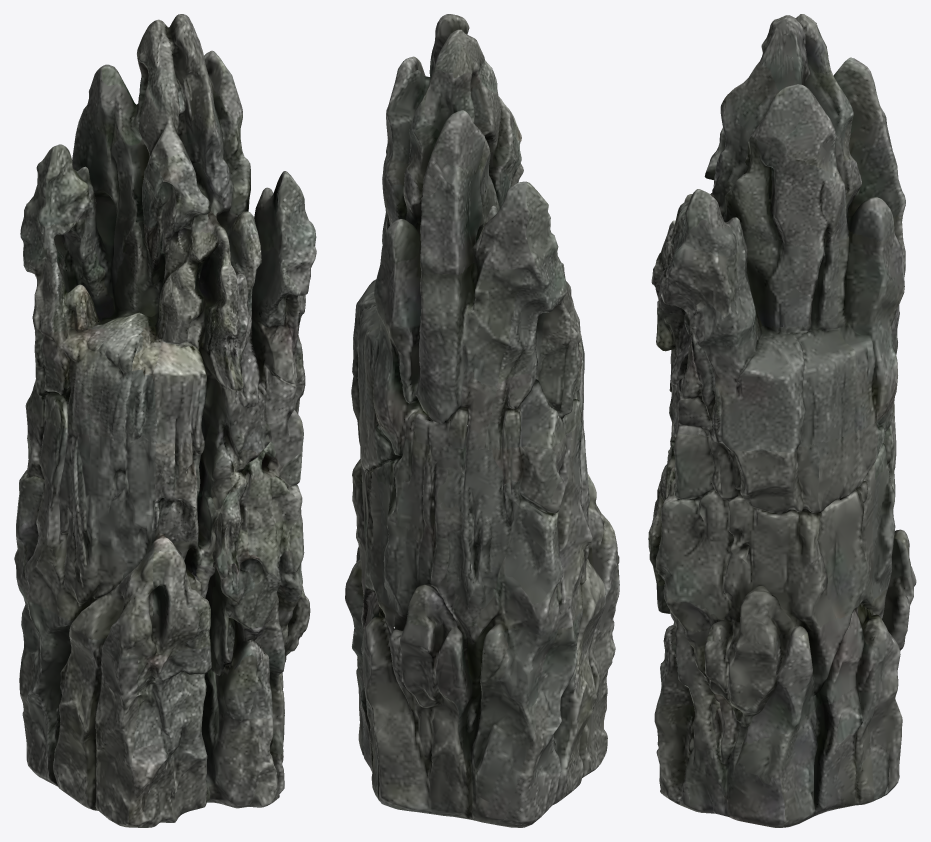
File: Dieshi_10.glb
3 renders of one model, left to right at view 1: azimuth 30°, elevation 25°; view 2: azimuth 150°, elevation 25°; view 3: azimuth 270°, elevation 25°, orthographic.
Visible parts, largest first — view 1: tripo_node_a8d2e1cf-406e-456a-8d33-165b33c33694; view 2: tripo_node_a8d2e1cf-406e-456a-8d33-165b33c33694; view 3: tripo_node_a8d2e1cf-406e-456a-8d33-165b33c33694.
Boxes of the visible parts, <box> form: tripo_node_a8d2e1cf-406e-456a-8d33-165b33c33694: <box>14,14,316,827</box>; tripo_node_a8d2e1cf-406e-456a-8d33-165b33c33694: <box>345,14,619,827</box>; tripo_node_a8d2e1cf-406e-456a-8d33-165b33c33694: <box>648,14,916,827</box>.
Bounding box in the file's own units: 0.3215 × 0.9782 × 0.308.
Materials: 1 (1 with a texture image).
